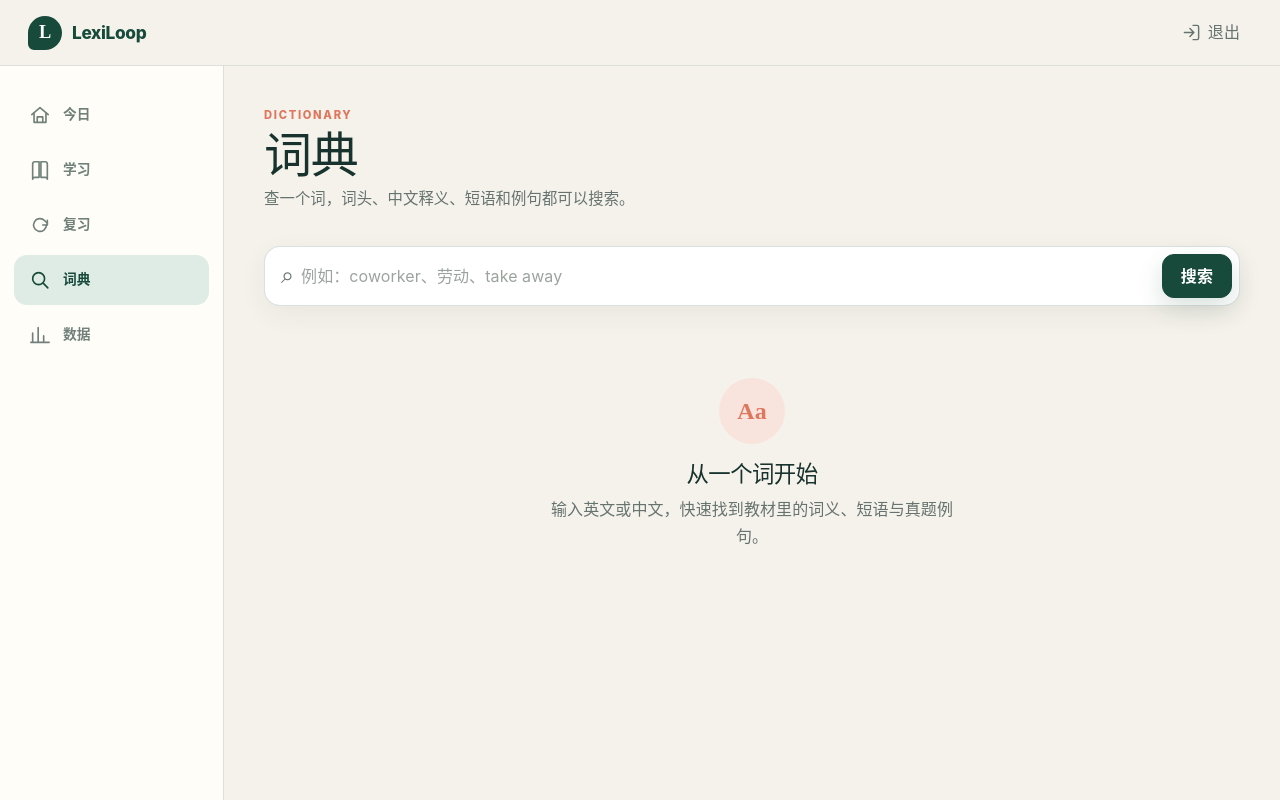
Test: dictionary search › highlights Chinese gloss matches for a Chinese query
This screenshot has width=1280, height=800.
Check: the heading "词典" is shown, box [264,125,358,184]
In the search field named "搜索词或释义": (728, 276) [301,254,1155,298], type "放弃"
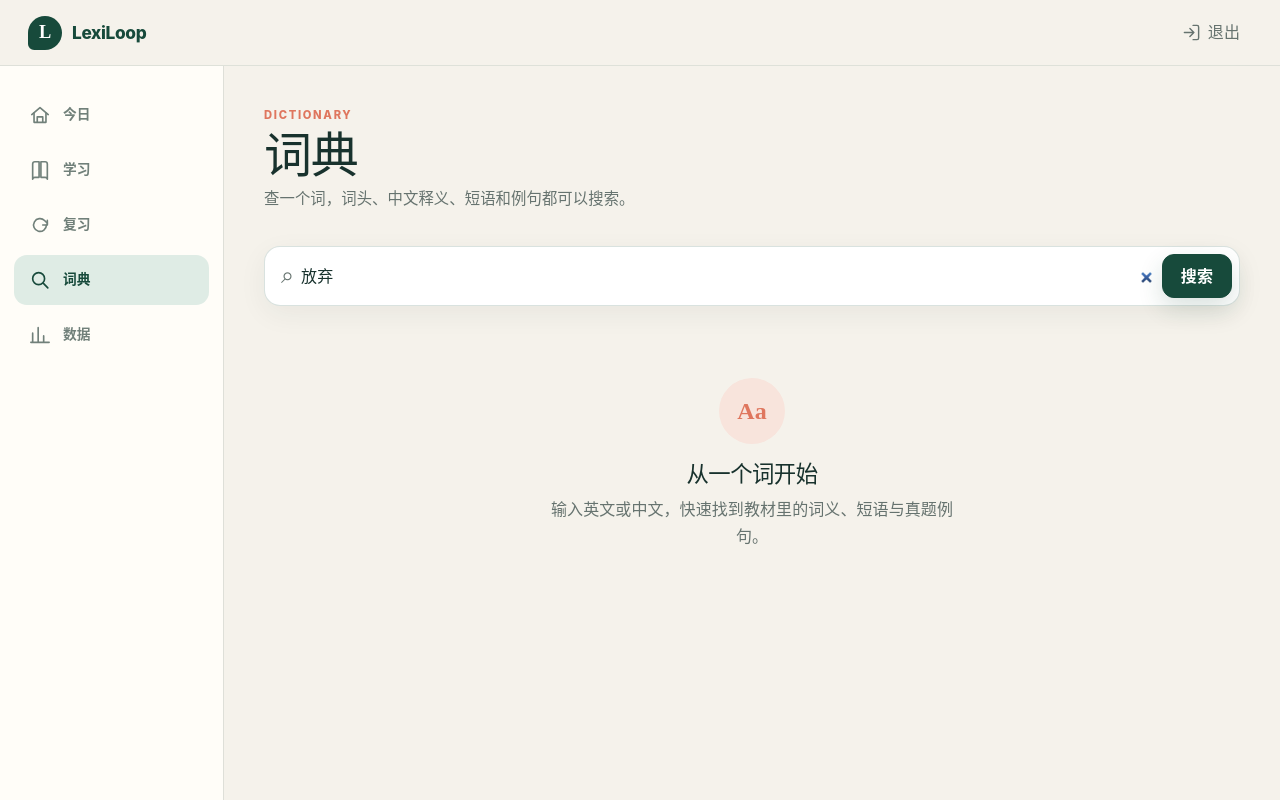
Click the button "搜索": click(1197, 276) [1162,254,1232,298]
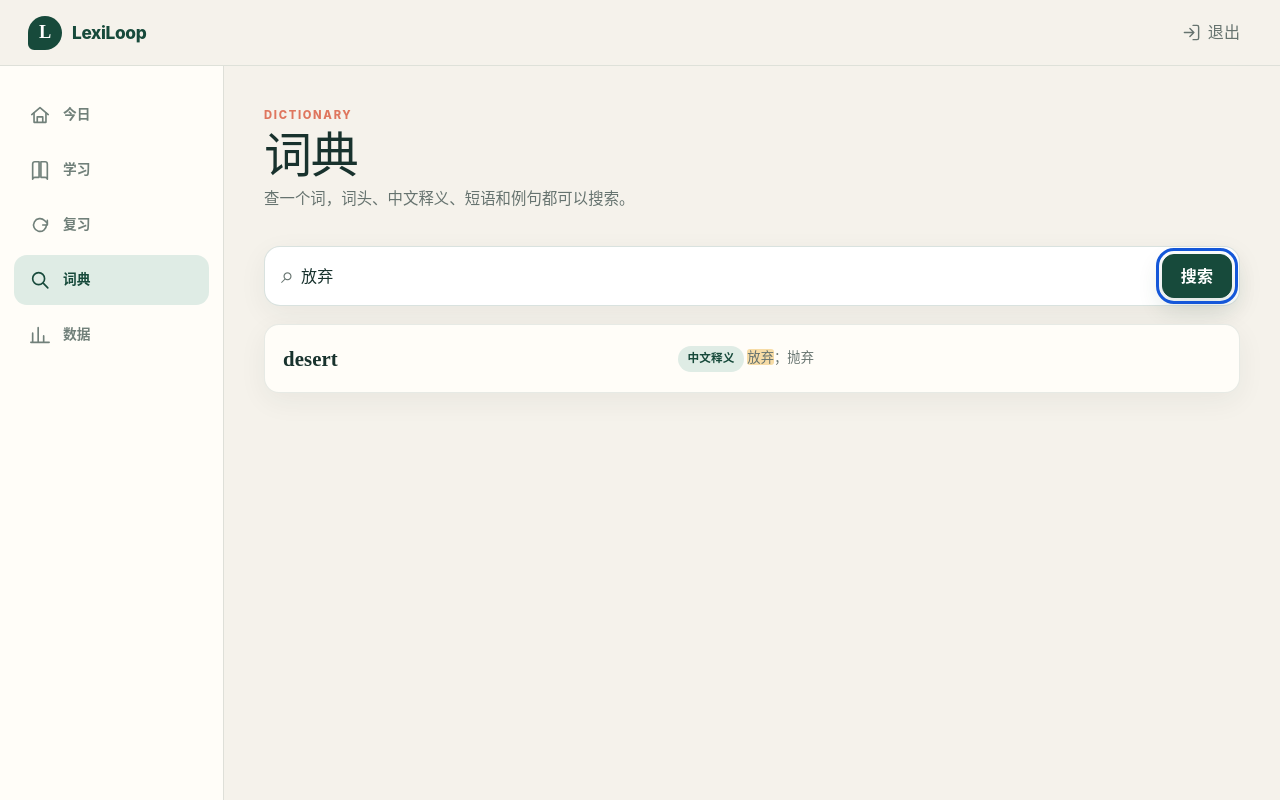
Check: the list named "搜索结果" is shown, box [264,324,1240,393]
Check: the text "放弃" is shown, box [747,349,774,365]
